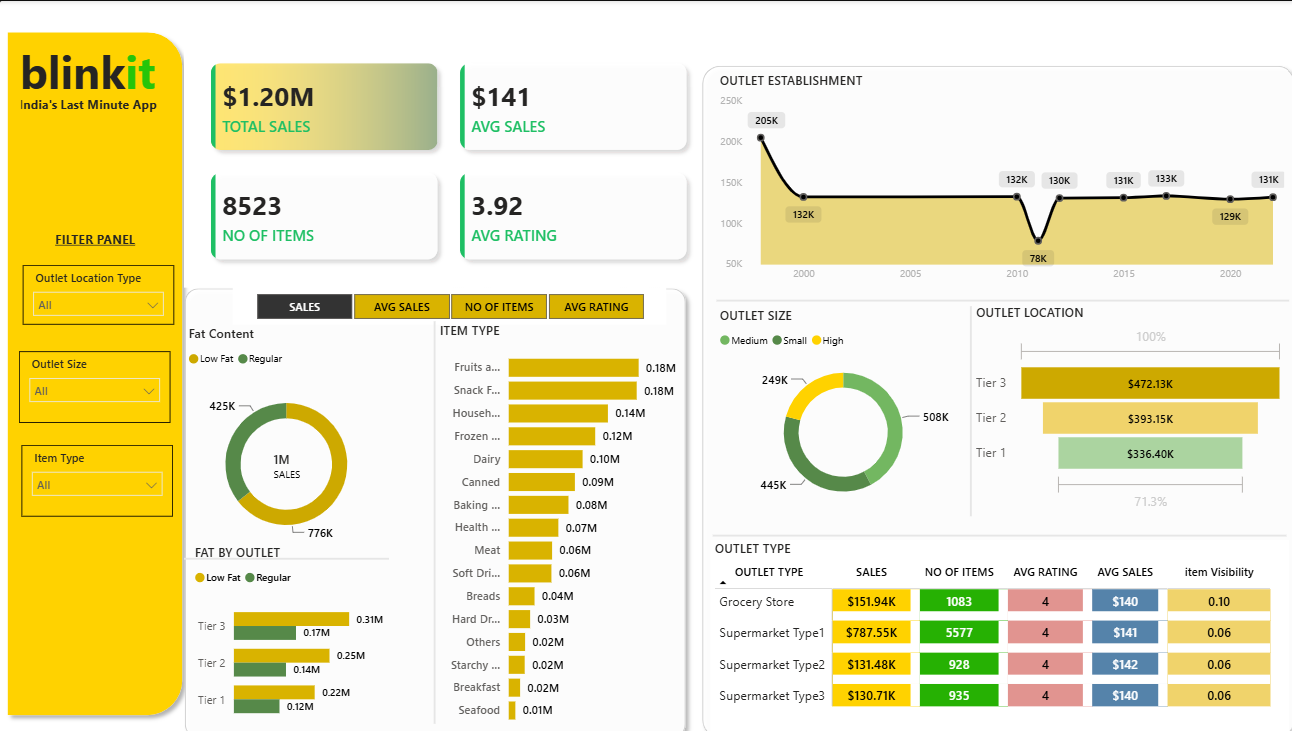

What the dashboard file says about the page in this screenshot:
{"tool":"powerbi","page":{"name":"Page 1","canvas":[1400,800],"ordinal":0},"visuals":[{"type":"shape","box":[0,25.5,205.6,750.4],"z":0},{"type":"textbox","box":[18,39,172.6,75],"z":1000},{"type":"textbox","box":[18,97.6,162.1,46.5],"z":2000},{"type":"cardVisual","fields":{"Data":["Sum(Zepto Grocery Data.Total Sales)","Zepto Grocery Data.AVG SALES","Zepto Grocery Data.NO OF ITEMS","Zepto Grocery Data.AVG RATING"]},"box":[198.4,38.9,569.7,269.4],"z":3000},{"type":"shape","box":[190.3,300.3,555,500],"z":4000},{"type":"donutChart","title":"Fat Content","fields":{"Y":["Zepto Grocery Data.AVG SALES"],"Category":["Zepto Grocery Data.Item Fat Content"]},"box":[198.4,348.5,219.8,253.4],"z":5000},{"type":"slicer","fields":{"Values":["METRICS.METRICS"]},"box":[250.7,308.3,465.1,40.2],"z":6000},{"type":"cardVisual","fields":{"Data":["Zepto Grocery Data.AVG SALES"]},"box":[284.2,466.5,131.4,64.3],"z":7000},{"type":"clusteredBarChart","title":"FAT BY OUTLET","fields":{"Y":["Zepto Grocery Data.AVG SALES"],"Category":["Zepto Grocery Data.Outlet Location Type"],"Series":["Zepto Grocery Data.Item Fat Content"]},"box":[205.1,583.1,213.1,203.8],"z":8000},{"type":"shape","box":[198.4,596.5,219.8,5.4],"z":9000},{"type":"shape","box":[361.9,344.5,210.5,431.6],"z":10000},{"type":"barChart","title":"ITEM TYPE","fields":{"Y":["Zepto Grocery Data.AVG SALES"],"Category":["Zepto Grocery Data.Item Type"]},"box":[467.8,344.5,264.1,442.4],"z":11000},{"type":"shape","box":[745.3,61.7,654.2,738.6],"z":12000},{"type":"lineChart","title":"OUTLET ESTABLISHMENT","fields":{"Category":["Zepto Grocery Data.Outlet Establishment Year"],"Y":["Zepto Grocery Data.SALES"]},"box":[768.1,76.4,615.3,234.6],"z":13000},{"type":"shape","box":[769.4,316.4,615.3,12.1],"z":14000},{"type":"donutChart","title":"OUTLET SIZE","fields":{"Category":["Zepto Grocery Data.Outlet Size"],"Y":["Zepto Grocery Data.SALES"]},"box":[768.1,328.4,274.8,225.2],"z":15000},{"type":"shape","box":[937,328.4,210.5,225.2],"z":16000},{"type":"funnel","title":" OUTLET LOCATION","fields":{"Y":["Sum(Zepto Grocery Data.Total Sales)"],"Category":["Zepto Grocery Data.Outlet Location Type"]},"box":[1042.9,325.7,340.5,227.9],"z":17000},{"type":"shape","box":[765.4,565.7,615.3,17.4],"z":18000},{"type":"pivotTable","title":"OUTLET TYPE","fields":{"Rows":["Zepto Grocery Data.Outlet Type"],"Values":["Zepto Grocery Data.SALES","Zepto Grocery Data.NO OF ITEMS","Zepto Grocery Data.AVG RATING","Zepto Grocery Data.AVG SALES","Avg(Zepto Grocery Data.Item Visibility)"]},"box":[762.7,579.1,622,221.2],"z":19000},{"type":"slicer","fields":{"Values":["Zepto Grocery Data.Outlet Location Type"]},"box":[25.5,284.2,162.2,64.3],"z":20000},{"type":"slicer","fields":{"Values":["Zepto Grocery Data.Outlet Size"]},"box":[21.4,376.7,162.2,76.4],"z":21000},{"type":"slicer","fields":{"Values":["Zepto Grocery Data.Item Type"]},"box":[24.1,477.2,162.2,76.4],"z":22000},{"type":"textbox","box":[33.5,242.6,139.4,28.2],"z":23000}]}

Visuals, with their boxes in screenshot pixels (x1, y1, x2, y2), scaled from the page's 1400x800 canvas onto the 1292x731 screenshot:
shape: 0 23 190 709
textbox: 17 36 176 104
textbox: 17 89 166 132
cardVisual - Sum(Zepto Grocery Data.Total Sales) x Zepto Grocery Data.AVG SALES: 183 36 709 282
shape: 176 274 688 730
"Fat Content" donutChart: 183 318 386 550
slicer - METRICS.METRICS: 231 282 661 318
cardVisual - Zepto Grocery Data.AVG SALES: 262 426 384 485
"FAT BY OUTLET" clusteredBarChart: 189 533 386 719
shape: 183 545 386 550
shape: 334 315 528 709
"ITEM TYPE" barChart: 432 315 675 719
shape: 688 56 1291 730
"OUTLET ESTABLISHMENT" lineChart: 709 70 1277 284
shape: 710 289 1278 300
"OUTLET SIZE" donutChart: 709 300 962 506
shape: 865 300 1059 506
" OUTLET LOCATION" funnel: 962 298 1277 506
shape: 706 517 1274 533
"OUTLET TYPE" pivotTable: 704 529 1278 730
slicer - Zepto Grocery Data.Outlet Location Type: 24 260 173 318
slicer - Zepto Grocery Data.Outlet Size: 20 344 169 414
slicer - Zepto Grocery Data.Item Type: 22 436 172 506
textbox: 31 222 160 247
